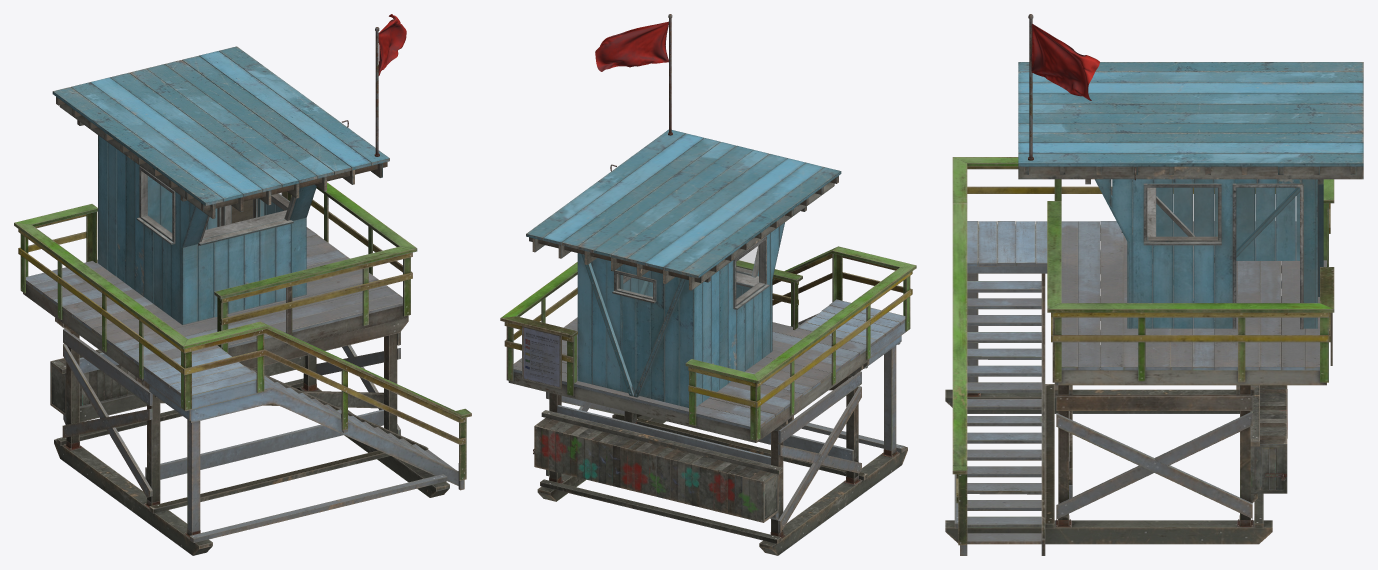
Rendered from lifeguard.glb.
The picture shows the model from 3 angles, left to right: view 1: azimuth 30°, elevation 25°; view 2: azimuth 150°, elevation 25°; view 3: azimuth 270°, elevation 25°; orthographic projection. The views are drawn at different scales.
Visible parts, largest first — view 1: base1_base1_0_8, base3_base3_0_10, base2_base2_0_4, flag_props_0_12, props_props_0_14; view 2: base3_base3_0_10, base1_base1_0_8, base2_base2_0_4, props_props_0_14, flag_props_0_12; view 3: base1_base1_0_8, base3_base3_0_10, base2_base2_0_4, flag_props_0_12, props_props_0_14.
Part boxes in pixels (<box>): base1_base1_0_8: <box>23,182,458,555</box>; base3_base3_0_10: <box>52,46,389,324</box>; base2_base2_0_4: <box>14,204,471,490</box>; flag_props_0_12: <box>378,14,406,75</box>; props_props_0_14: <box>231,27,379,223</box>; base3_base3_0_10: <box>526,129,841,407</box>; base1_base1_0_8: <box>500,260,907,555</box>; base2_base2_0_4: <box>685,246,916,441</box>; props_props_0_14: <box>522,14,672,454</box>; flag_props_0_12: <box>595,21,668,71</box>; base1_base1_0_8: <box>945,201,1334,555</box>; base3_base3_0_10: <box>1018,62,1363,329</box>; base2_base2_0_4: <box>952,157,1334,555</box>; flag_props_0_12: <box>1031,23,1099,100</box>; props_props_0_14: <box>1028,14,1332,480</box>.
Size of the model in its own units: 3.34 by 5 by 3.71.
5 materials, 5 textured.
